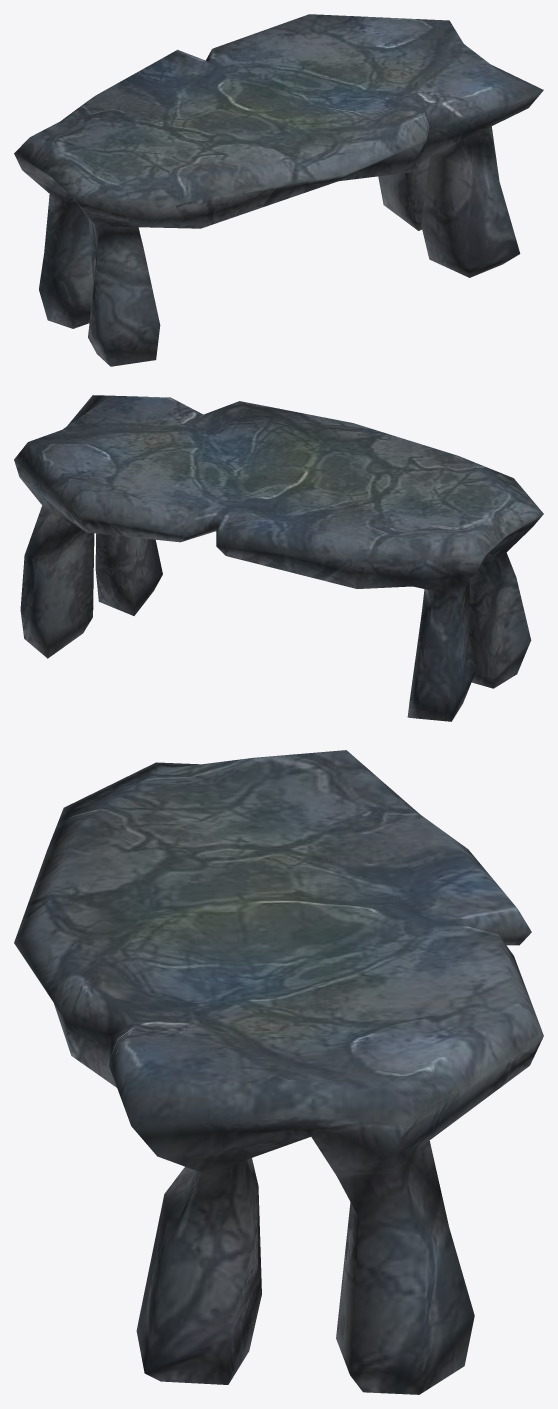
Rendered from Niflheim_Stone_Table_Lite.glb.
3 renders of one model, top to bottom at view 1: azimuth 30°, elevation 25°; view 2: azimuth 150°, elevation 25°; view 3: azimuth 270°, elevation 25°, orthographic. The views are drawn at different scales.
Visible parts, largest first — view 1: Cube; view 2: Cube; view 3: Cube.
Boxes of the visible parts, box(x1,y1,x2,y2) form: Cube: box(14, 14, 543, 366); Cube: box(14, 395, 543, 721); Cube: box(14, 750, 543, 1394).
Size of the model in its own units: 4.89 by 1.97 by 3.
1 material, 1 textured.
